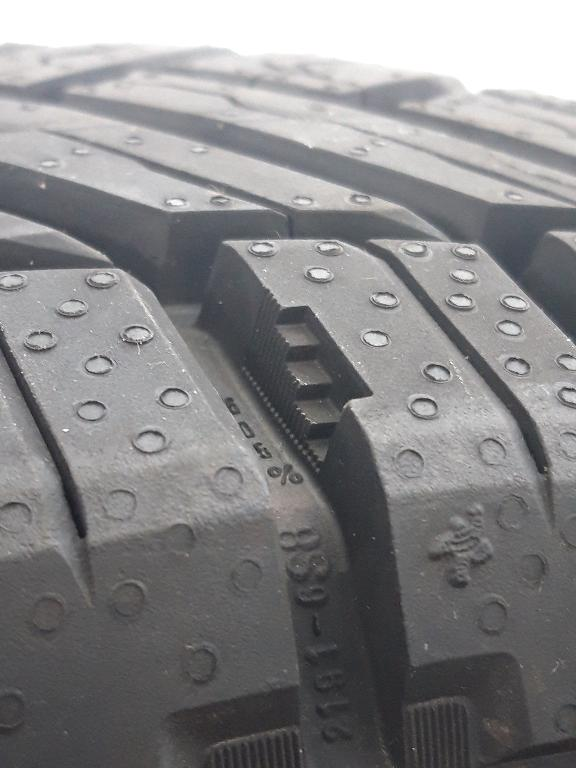temoin:100: (236, 283, 379, 478)
